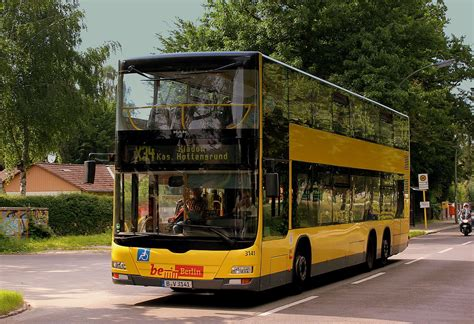bus: (116, 59, 409, 290)
